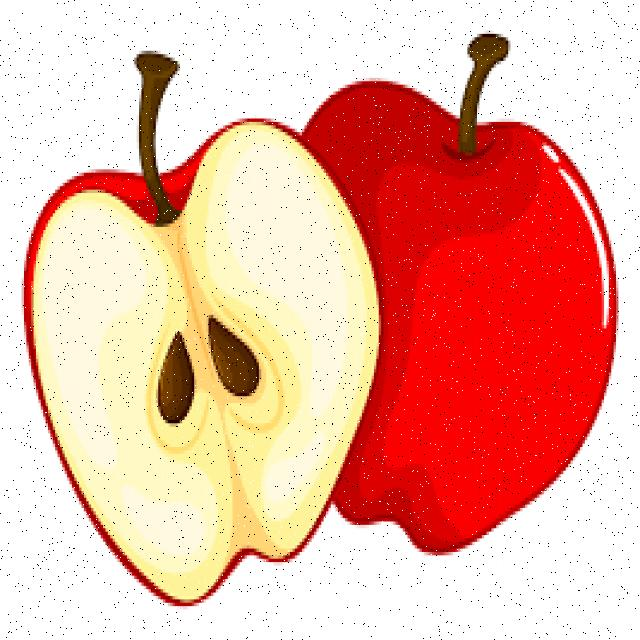Apple: (23, 96, 387, 605), (300, 52, 620, 558)
